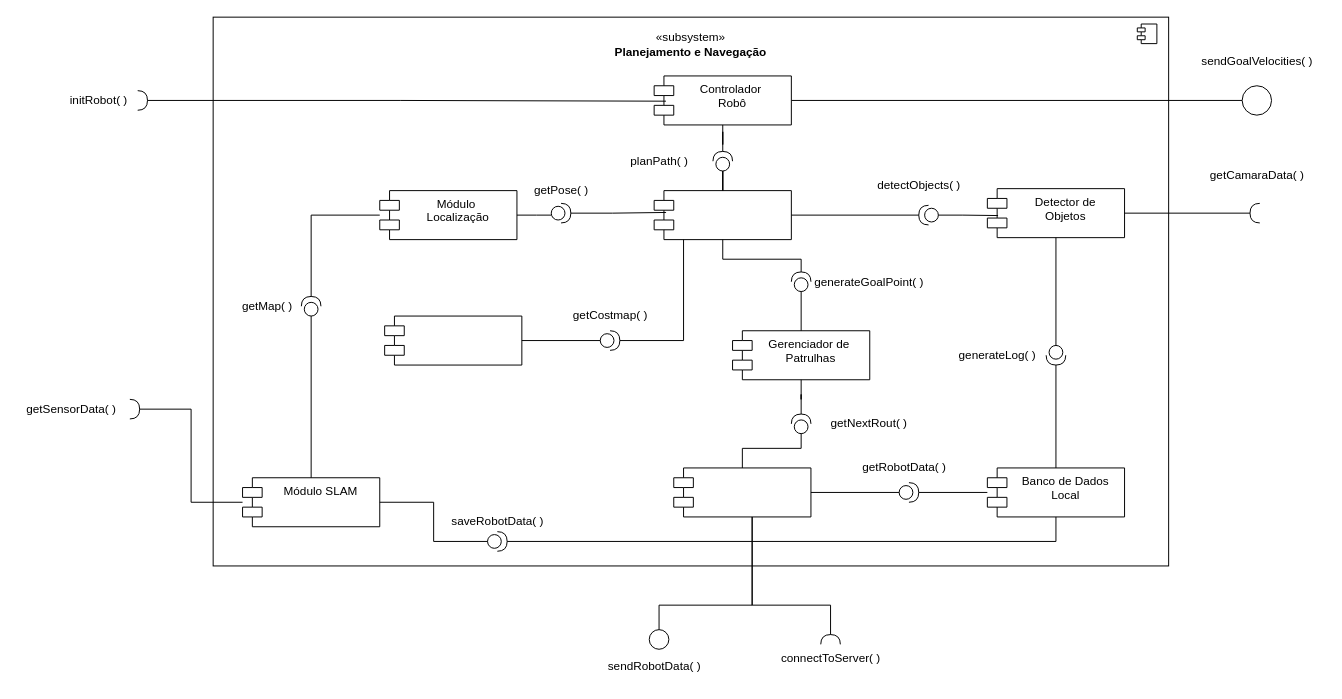
This 1342x699 diagram has some shape labels left out. The box of each missing label's shape, as (x1, y1, x2, y2) in pixels:
Comunicação com Cliente: (673, 467, 811, 517)
Gerenciador Costmap: (384, 315, 522, 365)
Planejador de Caminhos: (653, 190, 791, 240)
